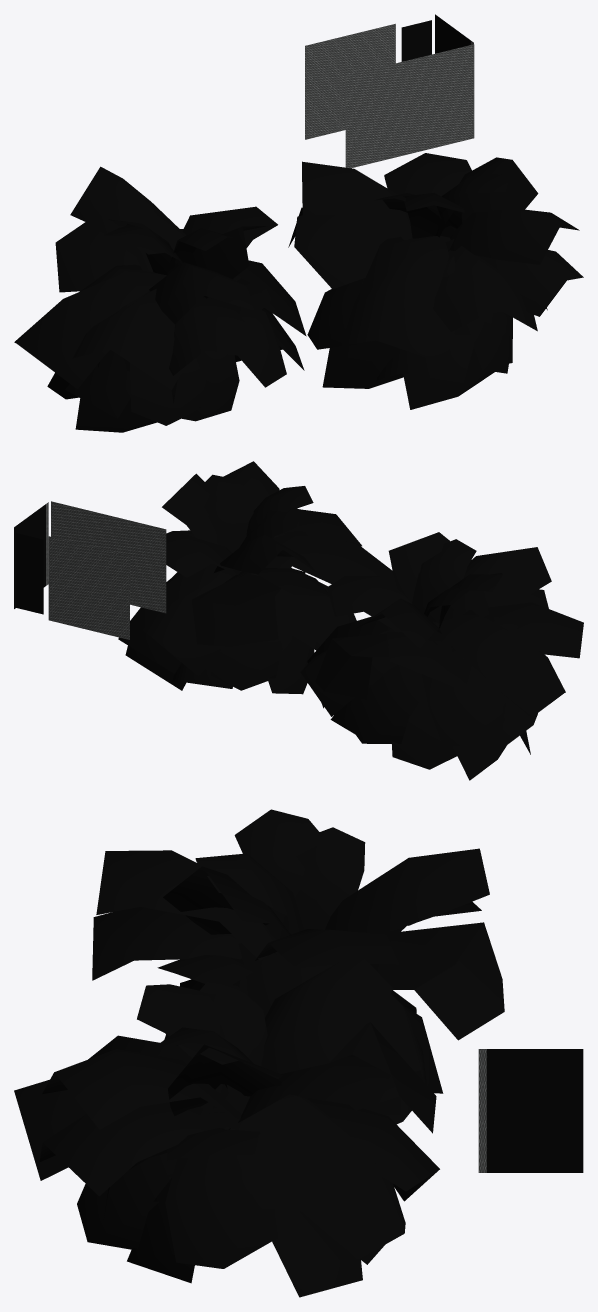
File: GameObject_keyTransparent.fbx
The picture shows the model from 3 angles, top to bottom: view 1: azimuth 30°, elevation 25°; view 2: azimuth 150°, elevation 25°; view 3: azimuth 270°, elevation 25°; orthographic projection. The views are drawn at different scales.
Visible parts, largest first — view 1: MeshBaker_mesh_mesh; view 2: MeshBaker_mesh_mesh; view 3: MeshBaker_mesh_mesh.
Part boxes in pixels (x1,y1,x2,y2): MeshBaker_mesh_mesh: (14,14,583,432); MeshBaker_mesh_mesh: (14,461,583,780); MeshBaker_mesh_mesh: (14,809,583,1297).
Bounding box in the file's own units: 1157 × 472 × 819.
Materials: 1 (1 with a texture image).
